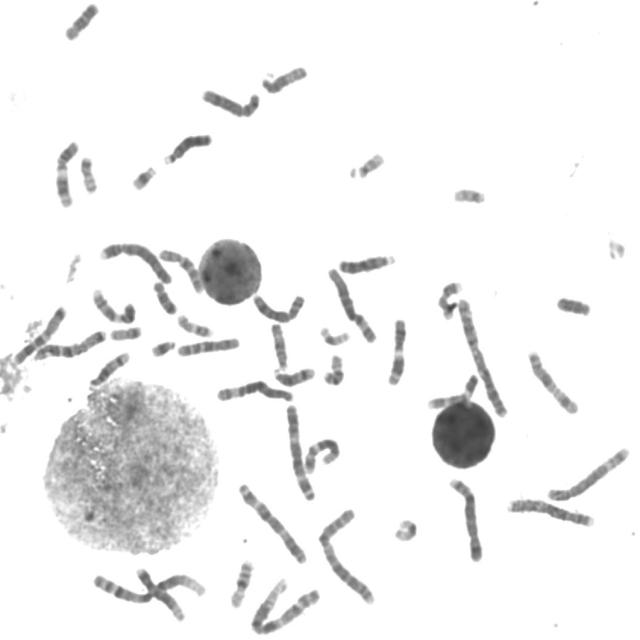A1: (89, 567, 209, 606), (247, 576, 324, 636)
A2: (454, 293, 511, 420), (315, 503, 379, 607)
A3: (234, 477, 310, 565), (282, 398, 318, 502)
B4: (96, 236, 176, 286), (502, 497, 598, 532)
B5: (544, 442, 634, 504), (446, 473, 486, 564)
C10: (155, 243, 208, 295), (174, 333, 242, 358)
C11: (52, 135, 82, 209), (383, 313, 410, 387)
C12: (131, 562, 188, 624), (301, 433, 342, 475)
C6: (324, 262, 379, 345), (213, 376, 296, 404)
C7: (8, 300, 69, 367), (30, 324, 110, 361)
C8: (198, 83, 263, 119), (249, 288, 307, 325)
C9: (424, 370, 482, 412), (88, 283, 138, 326)
D13: (160, 127, 214, 166), (336, 248, 399, 276)
D14: (86, 348, 132, 390), (271, 362, 318, 388)
D15: (258, 60, 310, 96), (268, 318, 291, 372)
E16: (226, 554, 256, 610), (108, 324, 144, 342)
E17: (435, 276, 465, 321), (174, 309, 216, 339)
E18: (61, 0, 102, 42), (150, 277, 180, 316)
F19: (316, 321, 352, 347), (390, 513, 420, 543)
F20: (76, 151, 100, 195), (321, 350, 346, 387)
G21: (127, 159, 160, 192), (148, 335, 178, 358)
G22: (347, 147, 388, 180), (449, 182, 488, 206)
X: (525, 345, 582, 416)
Y: (553, 291, 594, 318)
